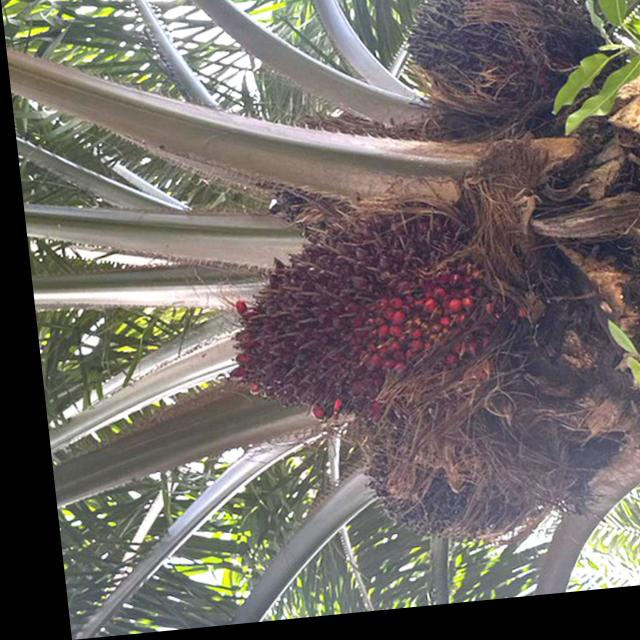ripe: (191, 193, 529, 460), (380, 0, 604, 141)
